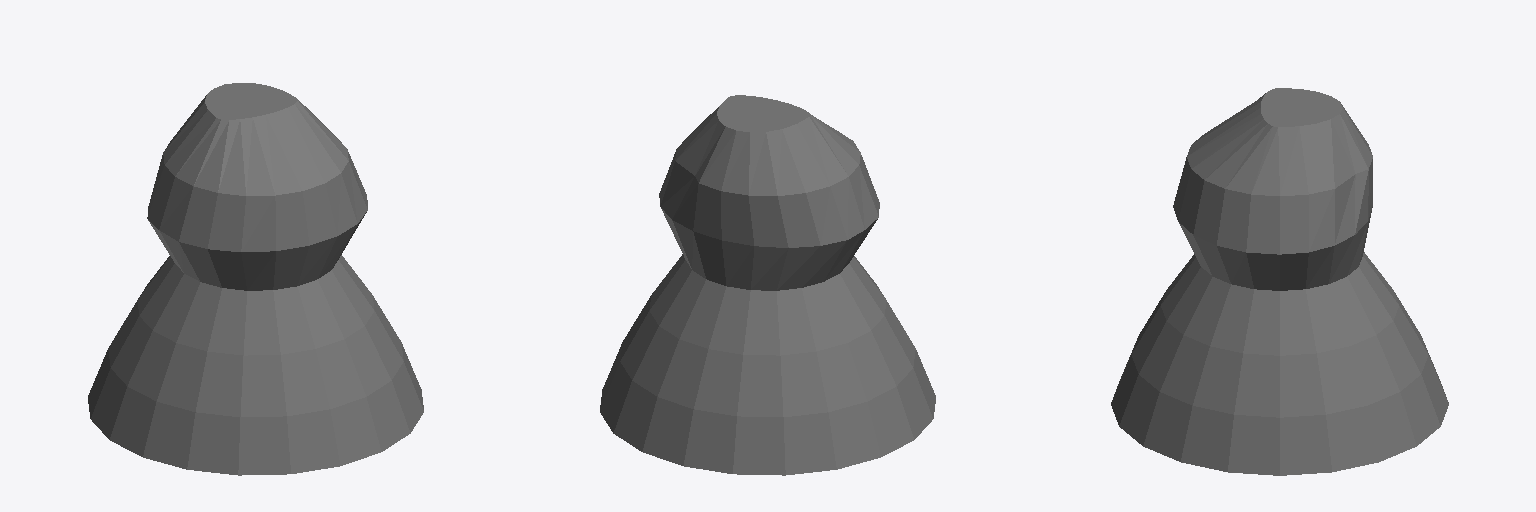
File: body.obj
3 renders of one model, left to right at view 1: azimuth 30°, elevation 25°; view 2: azimuth 150°, elevation 25°; view 3: azimuth 270°, elevation 25°, orthographic.
Visible parts, largest first — view 1: body:pCylinder2; view 2: body:pCylinder2; view 3: body:pCylinder2.
Boxes of the visible parts, x1=… form: body:pCylinder2: x1=88, y1=83, x2=423, y2=475; body:pCylinder2: x1=600, y1=95, x2=935, y2=475; body:pCylinder2: x1=1111, y1=88, x2=1448, y2=475.
Size of the model in its own units: 6.03 by 5.83 by 6.03.